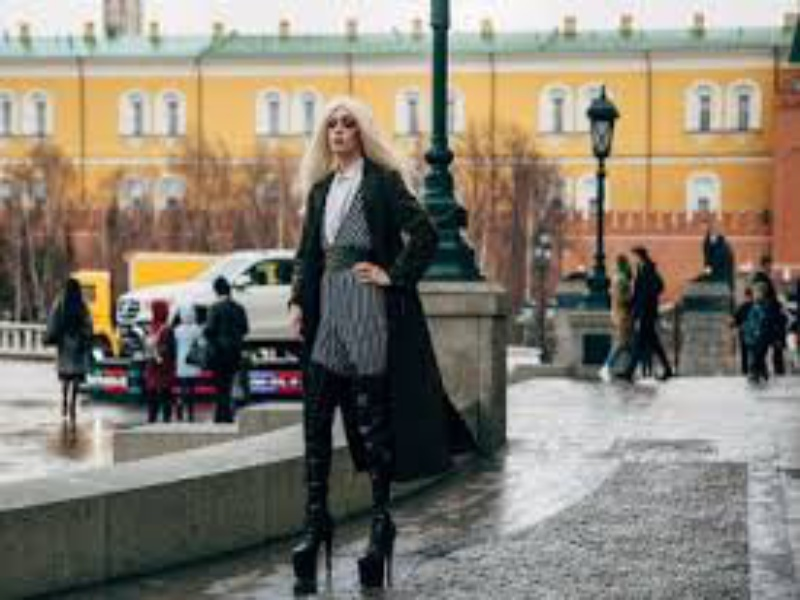TsisyArotava: (300, 91, 398, 170)
